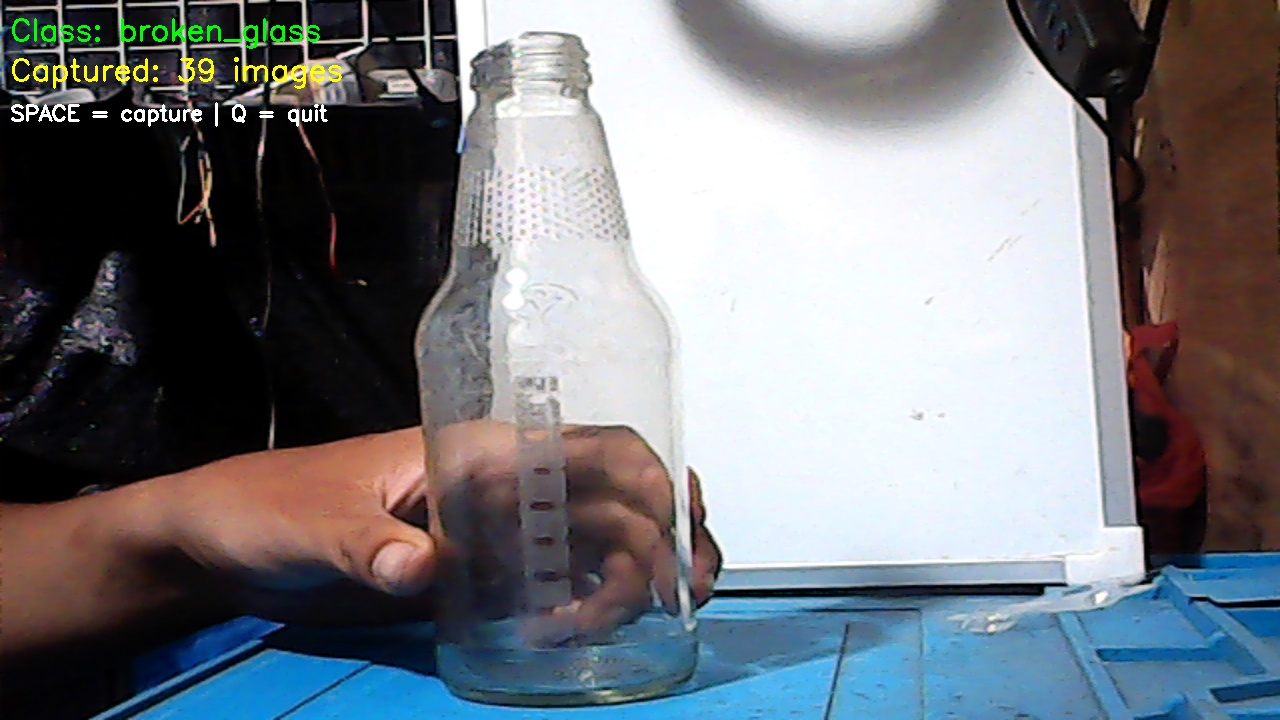broken_glass: (432, 43, 705, 703)
